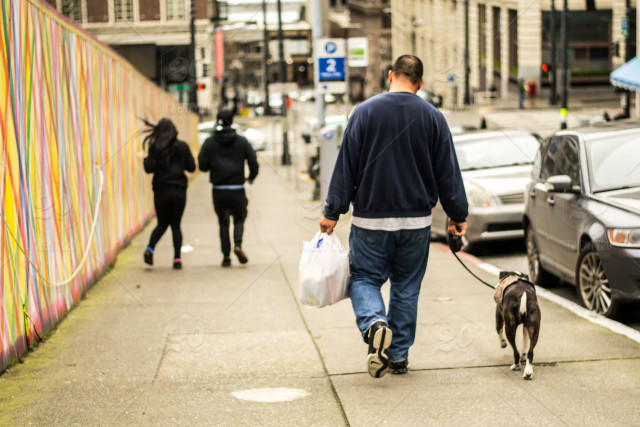car: (501, 113, 640, 324), (428, 124, 557, 252)
dog: (488, 267, 545, 381)
person: (300, 47, 475, 380), (127, 108, 202, 274), (194, 105, 264, 272)
